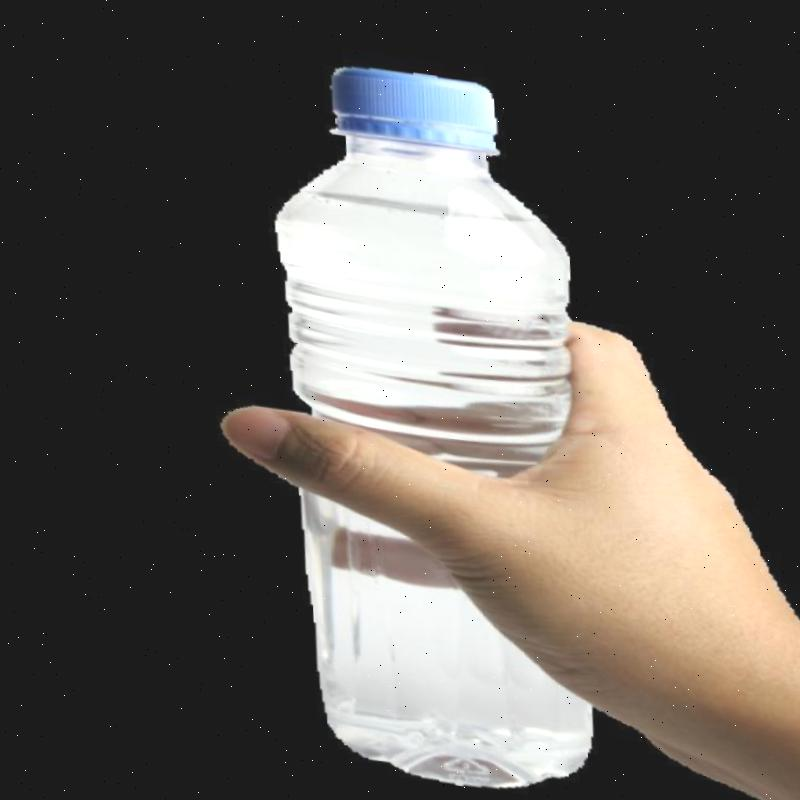botella: (231, 42, 618, 796)
